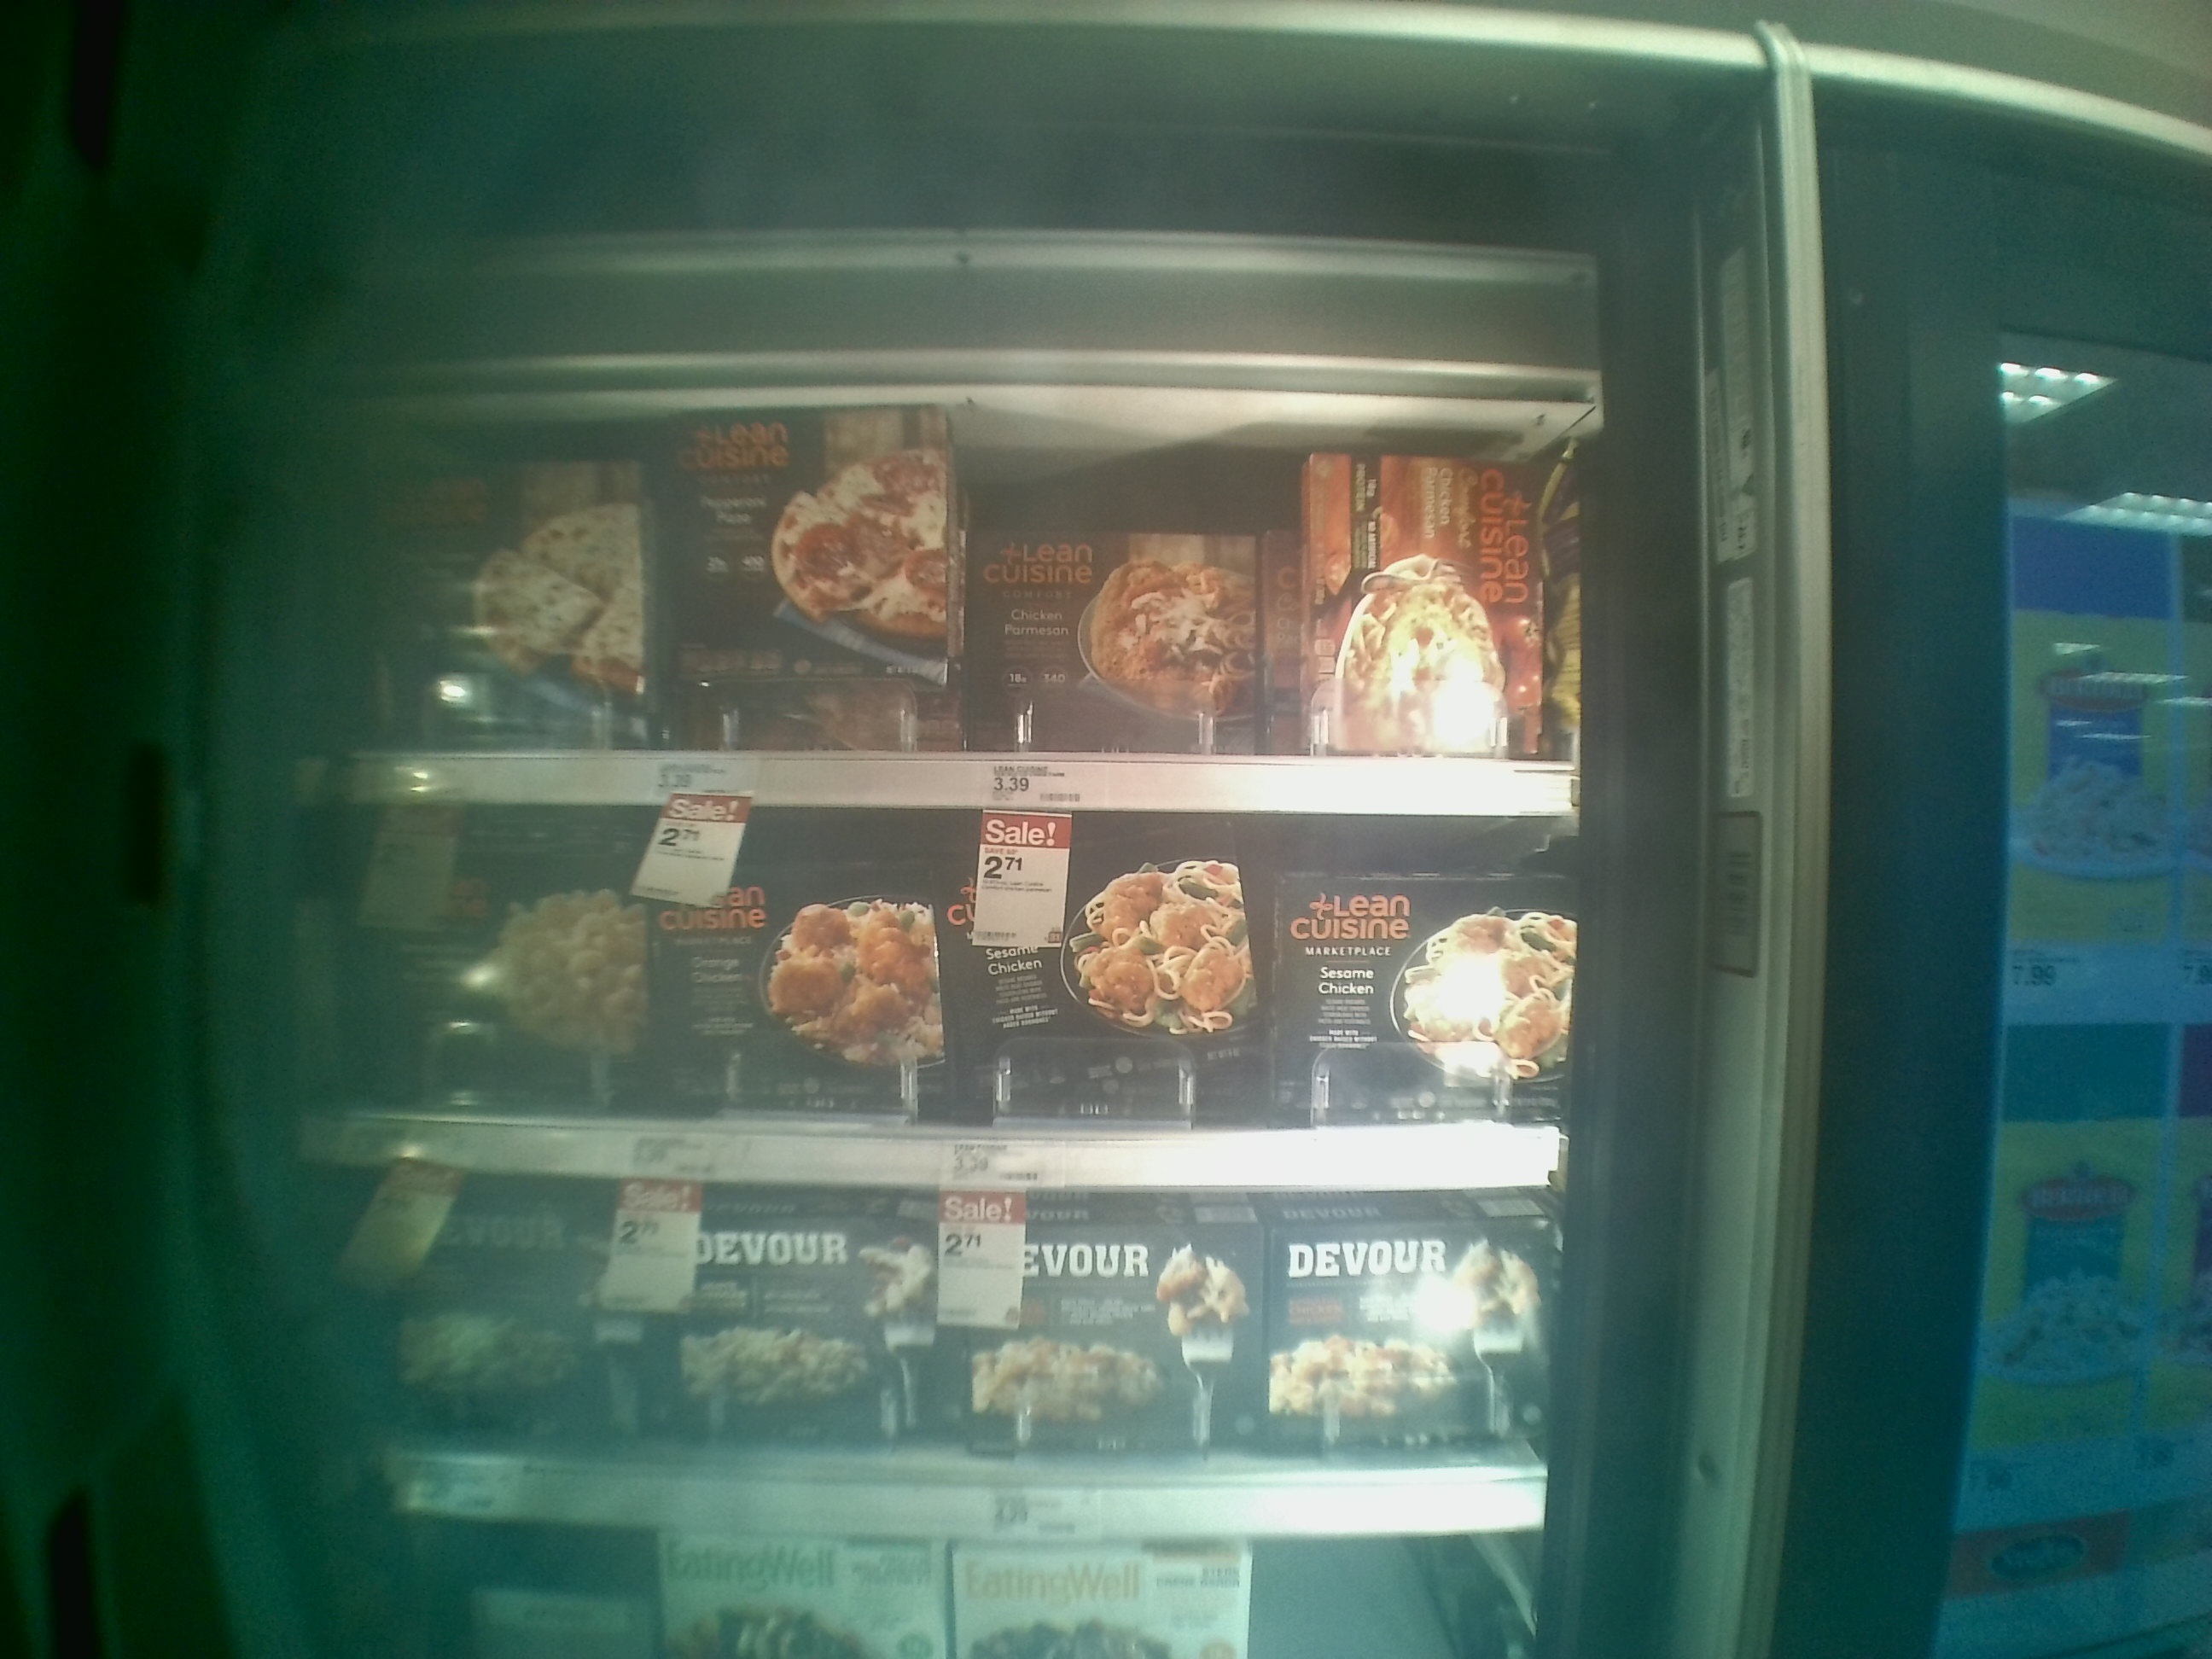shelf: (310, 347, 1583, 823), (315, 807, 1566, 1188), (315, 1168, 1550, 1539)
